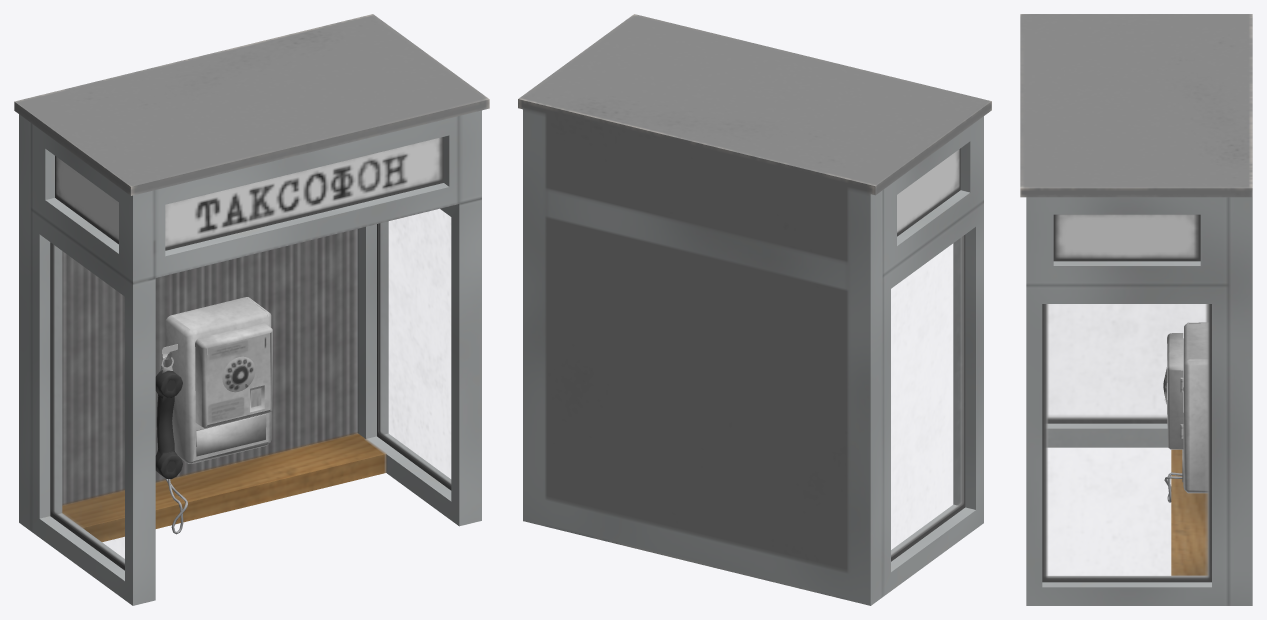
File: payphone.glb
3 views of the same model, side by side, from view 1: azimuth 30°, elevation 25°; view 2: azimuth 150°, elevation 25°; view 3: azimuth 270°, elevation 25° (orthographic).
Visible parts, largest first — view 1: defaultMaterial; view 2: defaultMaterial; view 3: defaultMaterial.
Part boxes in pixels (x1,y1,x2,y2): defaultMaterial: [14, 14, 489, 605]; defaultMaterial: [518, 14, 991, 605]; defaultMaterial: [1020, 14, 1252, 605].
Size of the model in its own units: 2.09 by 2.4 by 1.18.
1 material, 1 textured.
